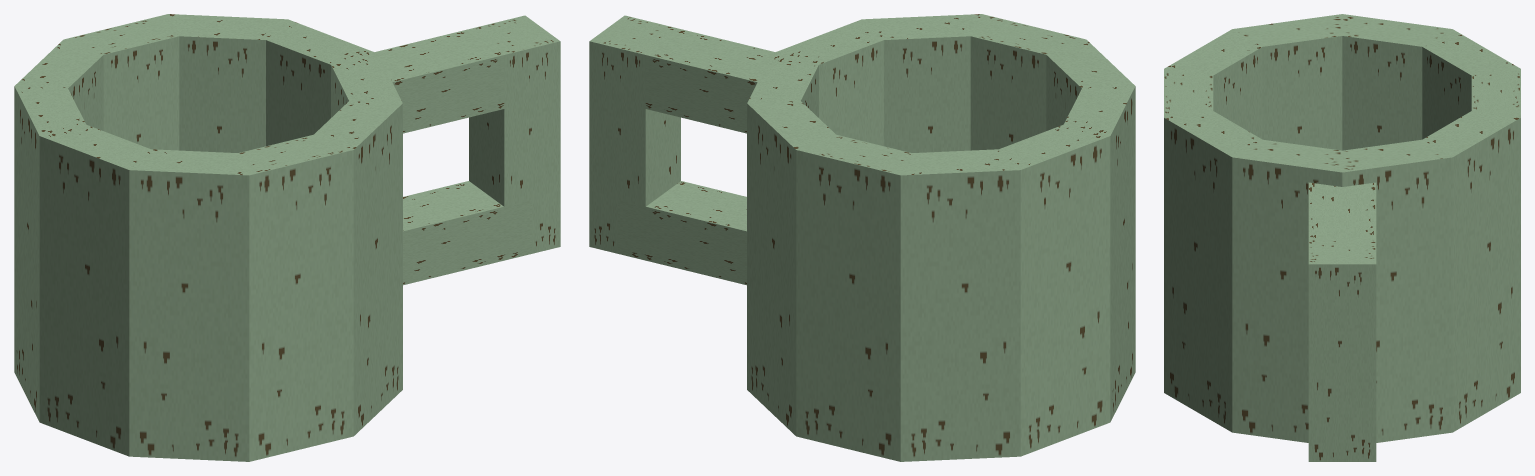
File: Mug.fbx
3 renders of one model, left to right at view 1: azimuth 30°, elevation 25°; view 2: azimuth 150°, elevation 25°; view 3: azimuth 270°, elevation 25°, orthographic. The views are drawn at different scales.
Visible parts, largest first — view 1: Mug; view 2: Mug; view 3: Mug.
Boxes of the visible parts, x1,y1,x2,y2 form: Mug: [14, 14, 560, 461]; Mug: [589, 14, 1135, 461]; Mug: [1164, 14, 1520, 461].
Size of the model in its own units: 31.25 by 17 by 19.97.
